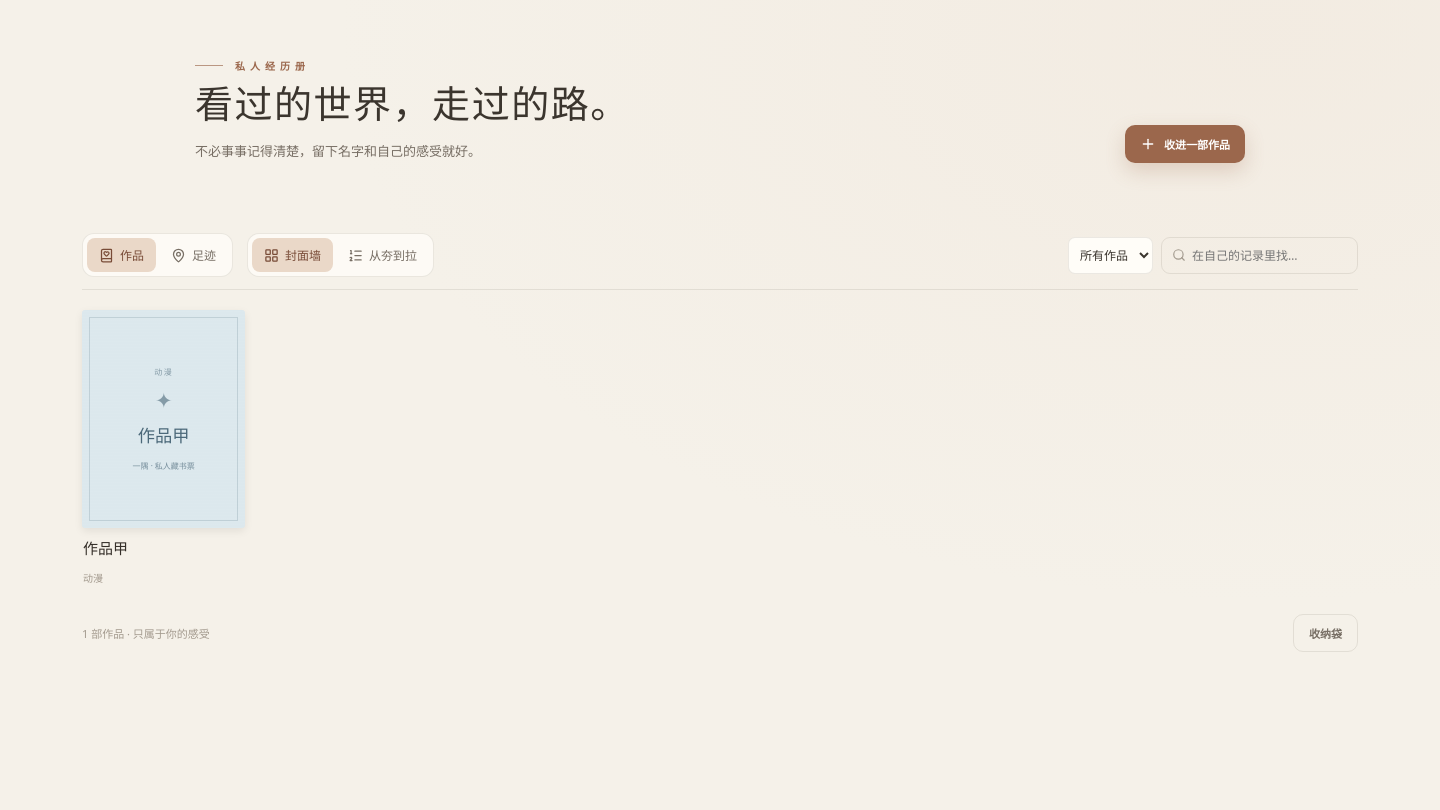
Test: experience paper cards and personal tier board › does not apply work categories to places and resets the type when switching groups
Select "电影" in the dropdown named "筛选作品类别" at (1110, 255), box [1068,237,1153,274]
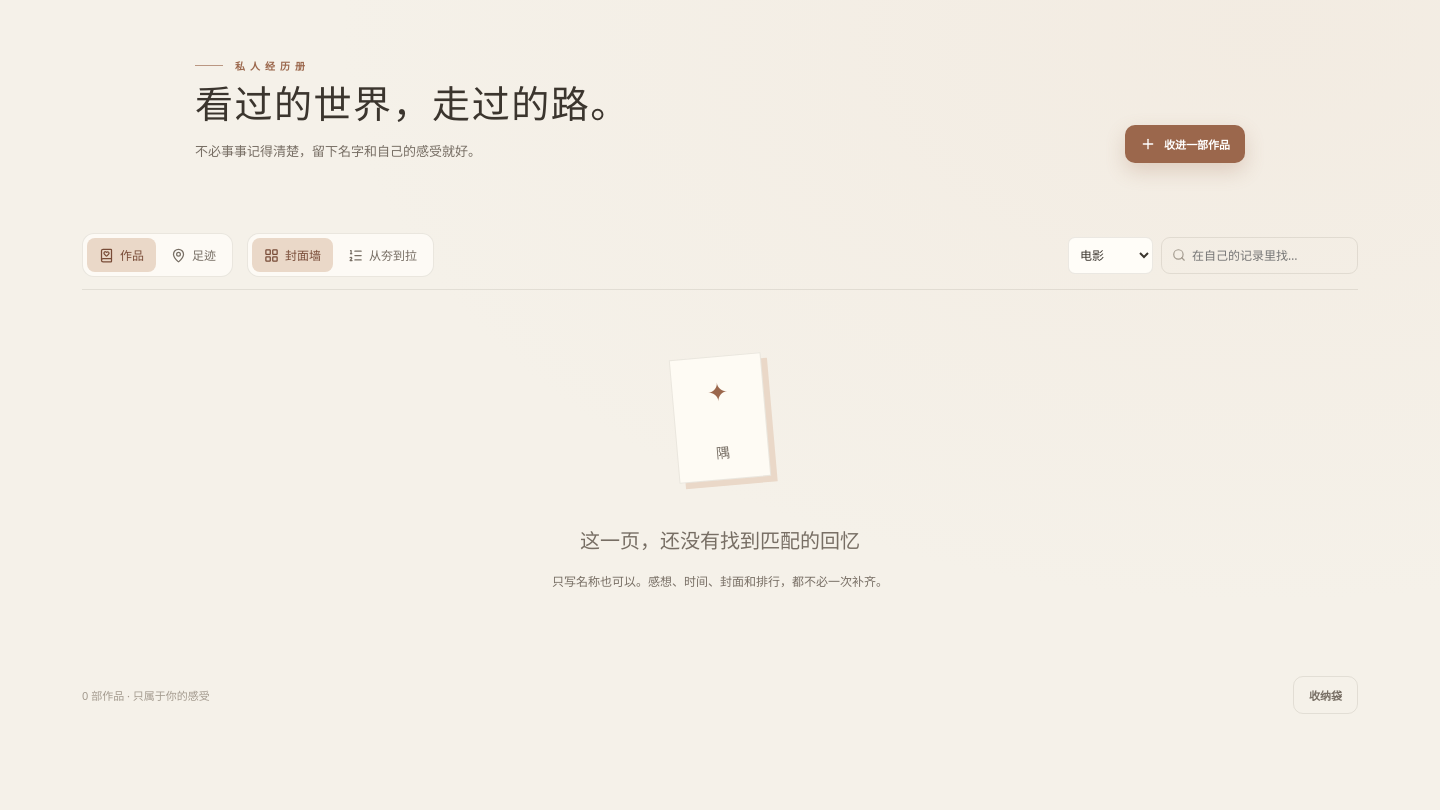
Click the button "足迹".
click(194, 255)  # box [159,238,228,272]
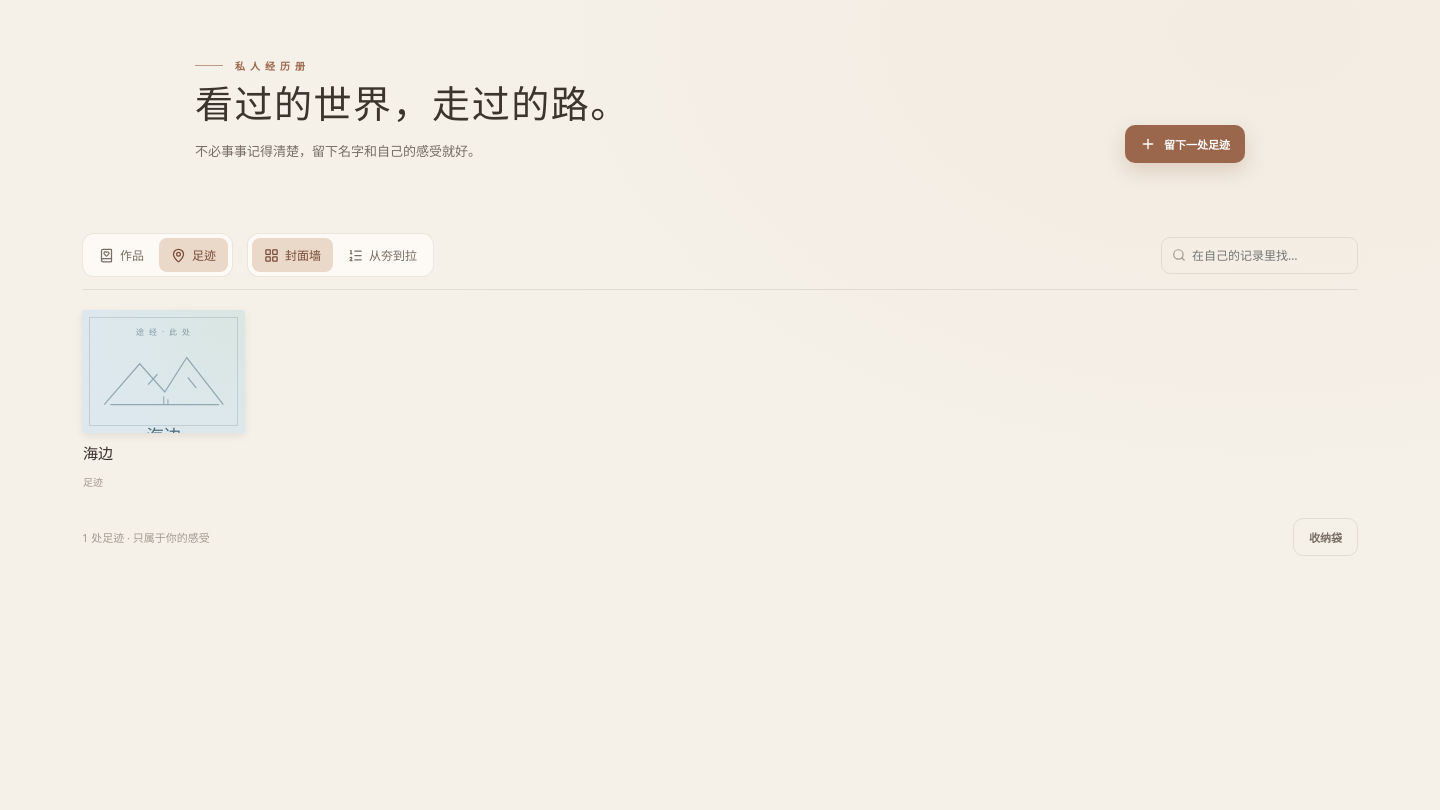
Check: the dropdown labelled "筛选作品类别" is gone
Check: the button with aria-label "查看海边" is shown, box [82,310,245,490]
Click the button "作品".
click(122, 255)  # box [87,238,156,272]
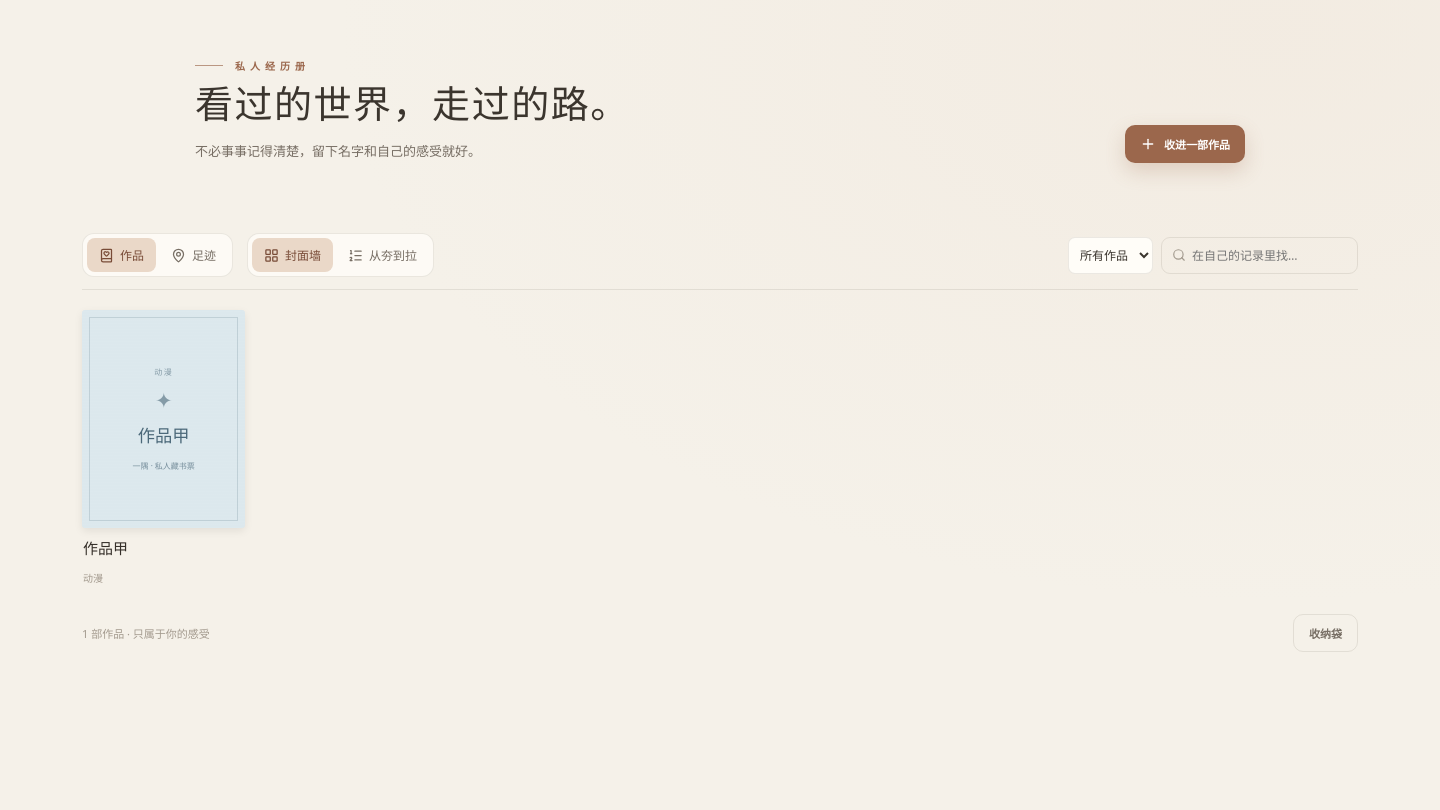
Check: the dropdown named "筛选作品类别" shows "所有作品", box [1068,237,1153,274]
Check: the button with aria-label "查看作品甲" is shown, box [82,310,245,586]
